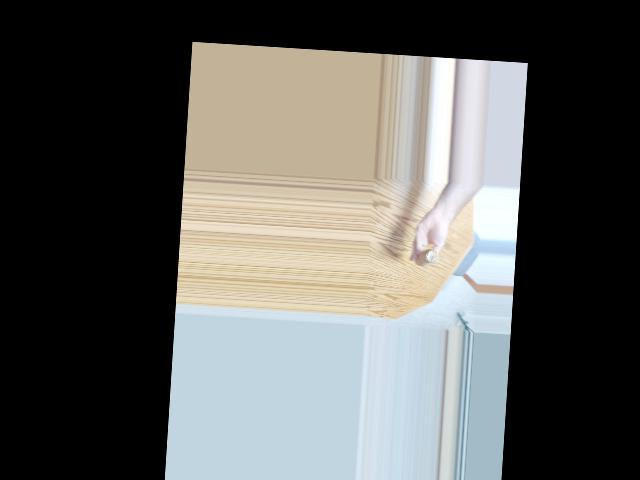sweet_potato: (413, 242, 442, 270)
